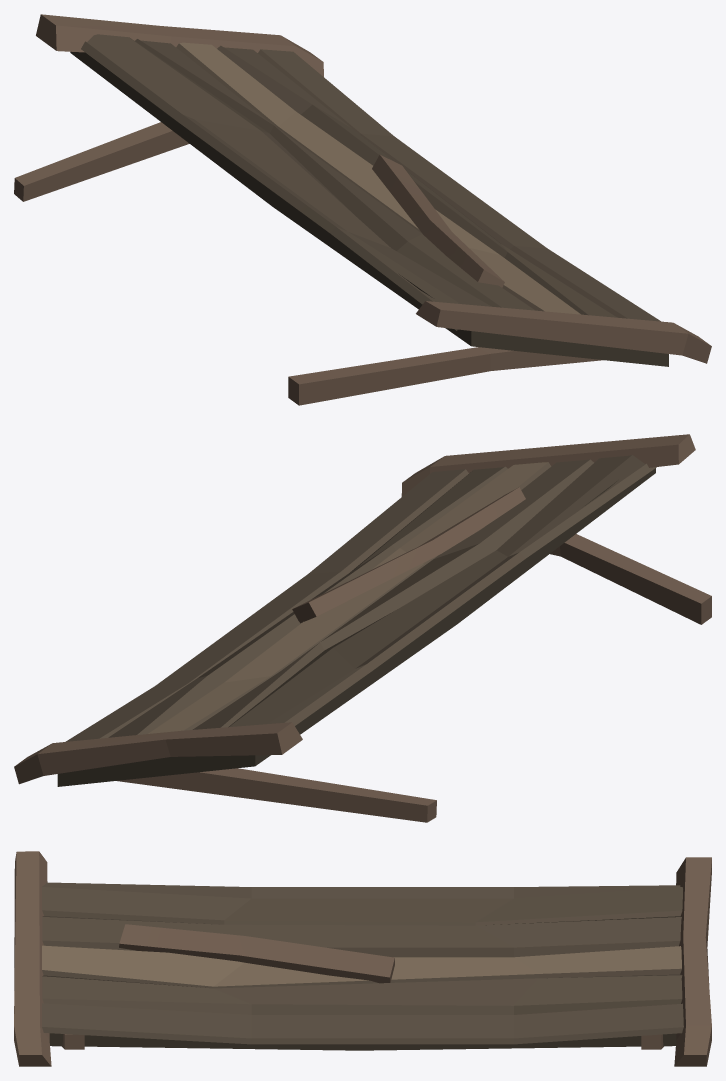
File: SM_Bld_Shanty_Roof_05.glb
3 views of the same model, one above another, from view 1: azimuth 30°, elevation 25°; view 2: azimuth 150°, elevation 25°; view 3: azimuth 270°, elevation 25° (orthographic). The views are drawn at different scales.
Visible parts, largest first — view 1: SM_Bld_Shanty_Roof_05; view 2: SM_Bld_Shanty_Roof_05; view 3: SM_Bld_Shanty_Roof_05.
Boxes of the visible parts, x1=… form: SM_Bld_Shanty_Roof_05: x1=14, y1=14, x2=711, y2=405; SM_Bld_Shanty_Roof_05: x1=14, y1=434, x2=711, y2=822; SM_Bld_Shanty_Roof_05: x1=14, y1=851, x2=711, y2=1066.
Size of the model in its own units: 0.0271 by 0.00881 by 0.054.
